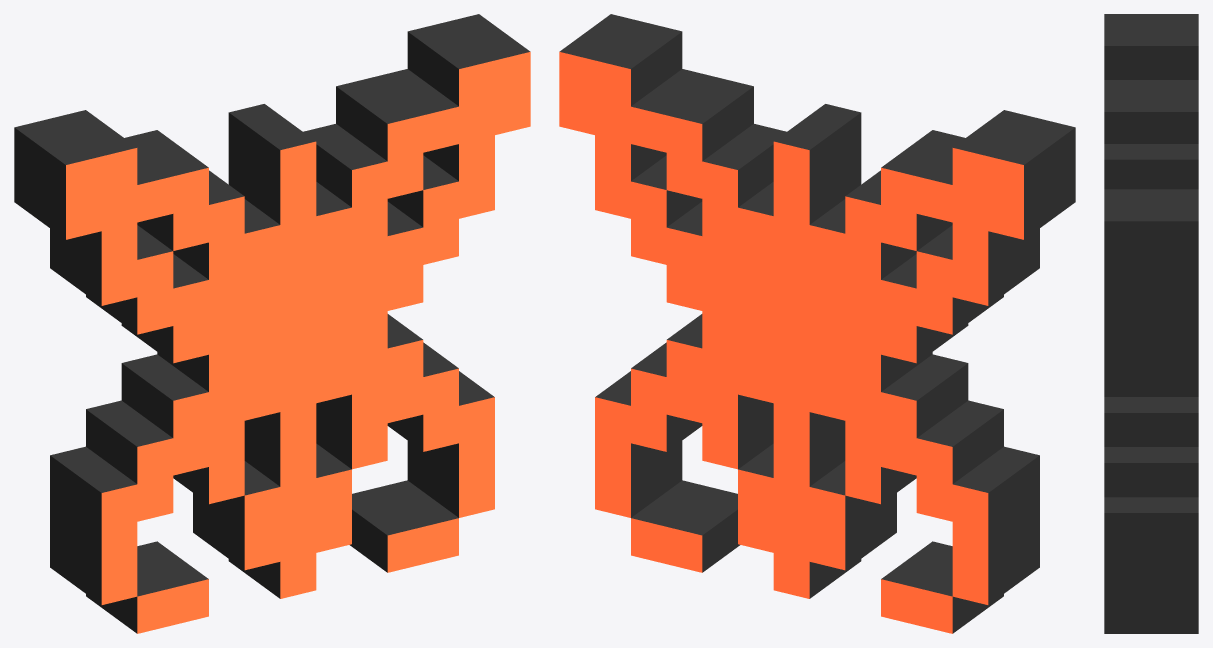
The model's file is Dennis.glb.
3 renders of one model, left to right at view 1: azimuth 30°, elevation 25°; view 2: azimuth 150°, elevation 25°; view 3: azimuth 270°, elevation 25°, orthographic. The views are drawn at different scales.
Visible parts, largest first — view 1: Dennis; view 2: Dennis; view 3: Dennis.
Boxes of the visible parts, <box> form: Dennis: <box>14,14,530,633</box>; Dennis: <box>559,14,1075,633</box>; Dennis: <box>1104,14,1198,633</box>.
Bounding box in the file's own units: 3 × 3 × 0.5767.
